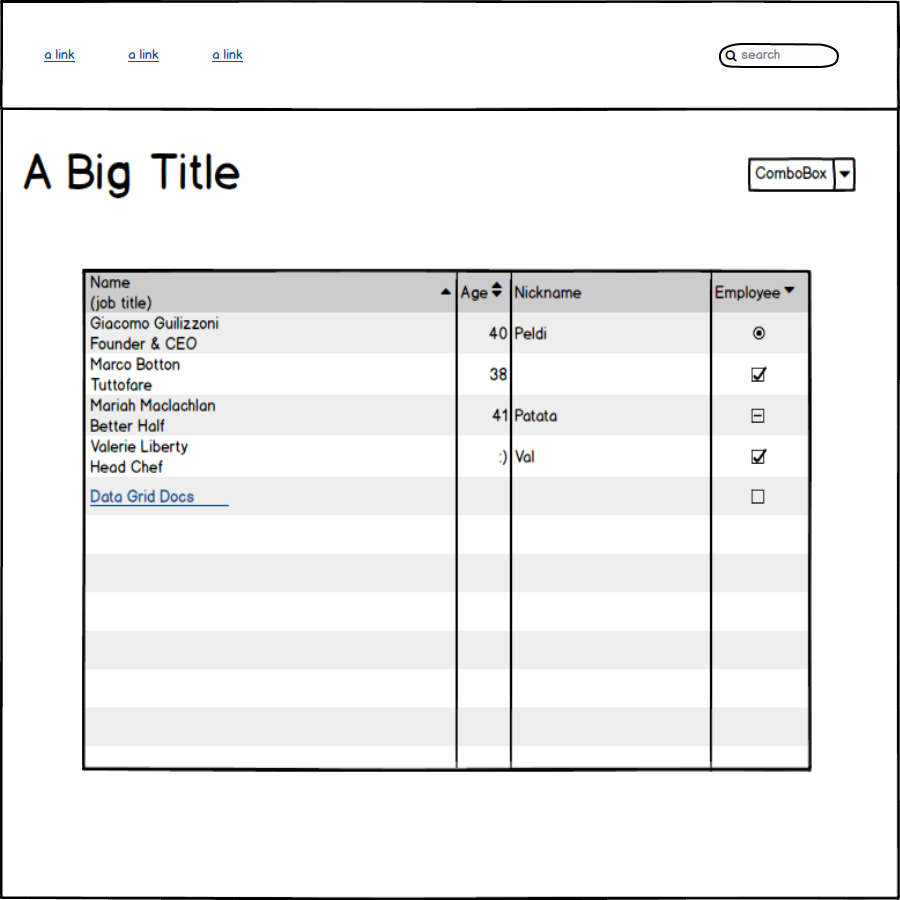h1: (23, 132, 249, 204)
navlink: (205, 36, 252, 69), (123, 43, 164, 67), (39, 44, 81, 66)
search: (712, 37, 849, 75)
select_box: (737, 151, 863, 193)
table: (72, 263, 822, 781)
